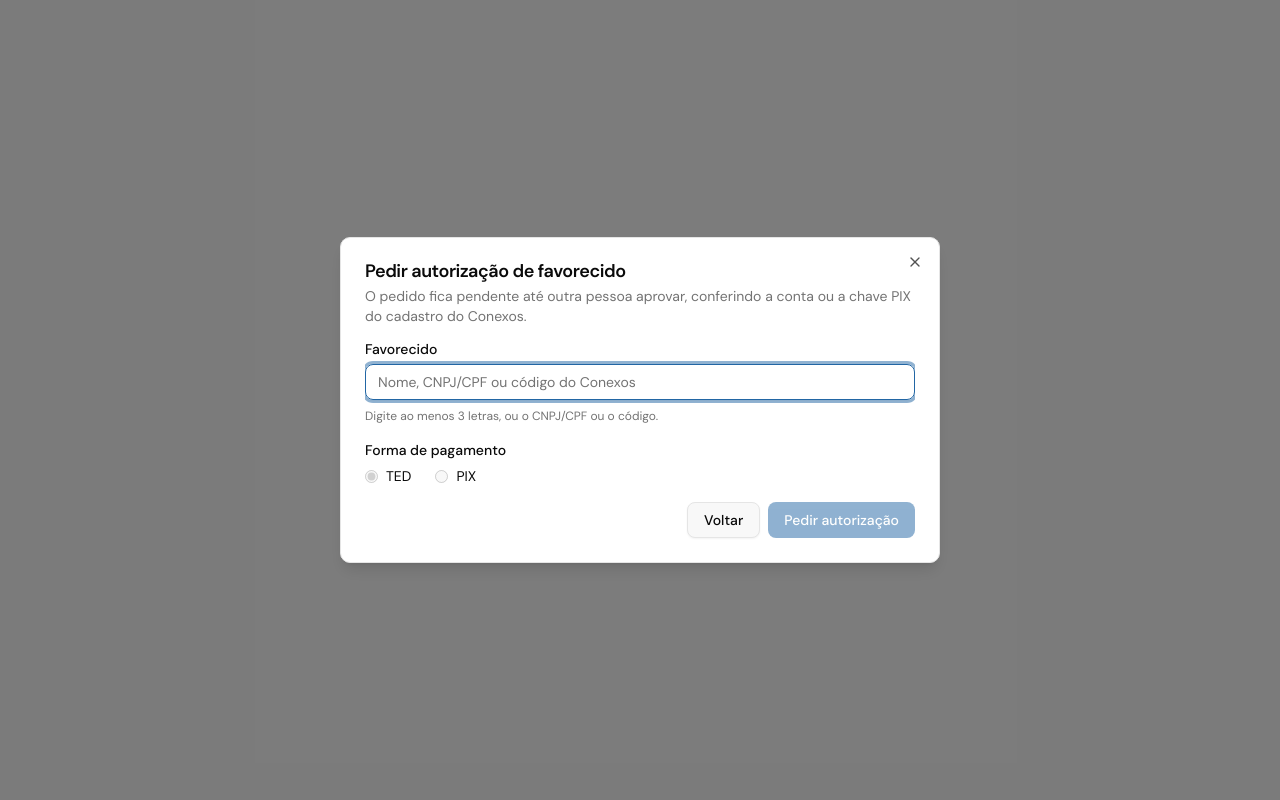
it: SolicitarAutorizacaoDialog — busca no Conexos › prévia barrada pelo limite (429) mostra a mensagem do servidor e não bloqueia o pedido
The width and height of the screenshot is (1280, 800).
Step 1. Type "beta" into the search field labelled "Favorecido" → (640, 382), box [365, 364, 915, 400]
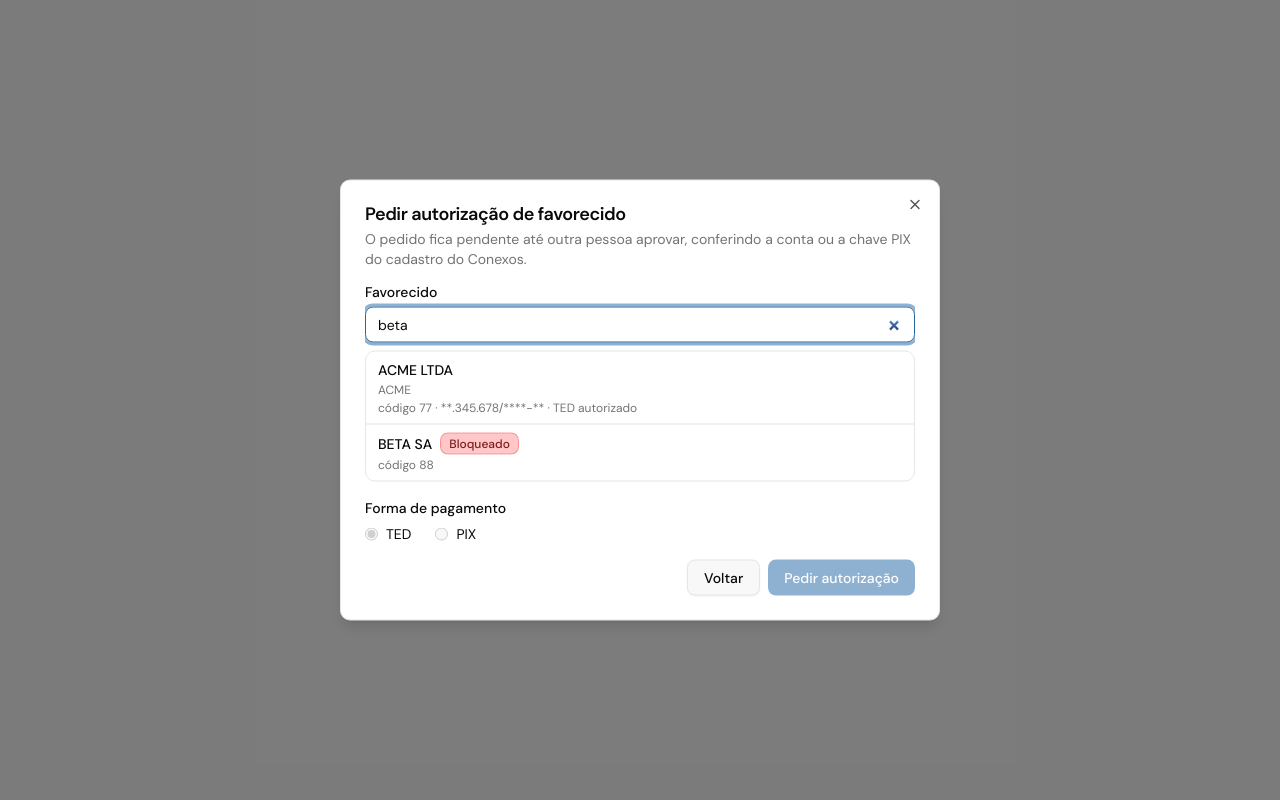
Step 2. Click the button with aria-label "escolher BETA SA" → (405, 444), box [366, 424, 914, 480]
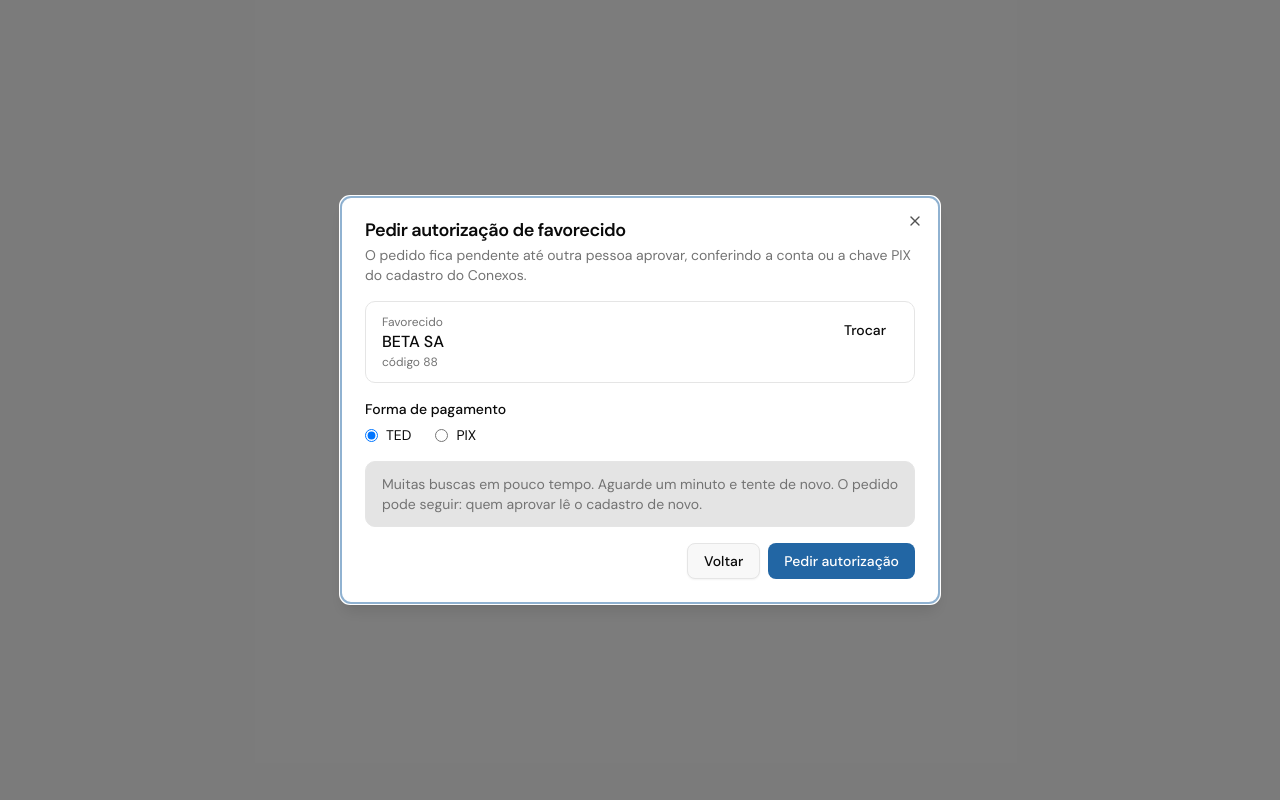
Check: the text "Muitas buscas em pouco tempo" is shown, box [382, 475, 834, 493]
Check: the button "Pedir autorização" is enabled, box [768, 543, 915, 579]
